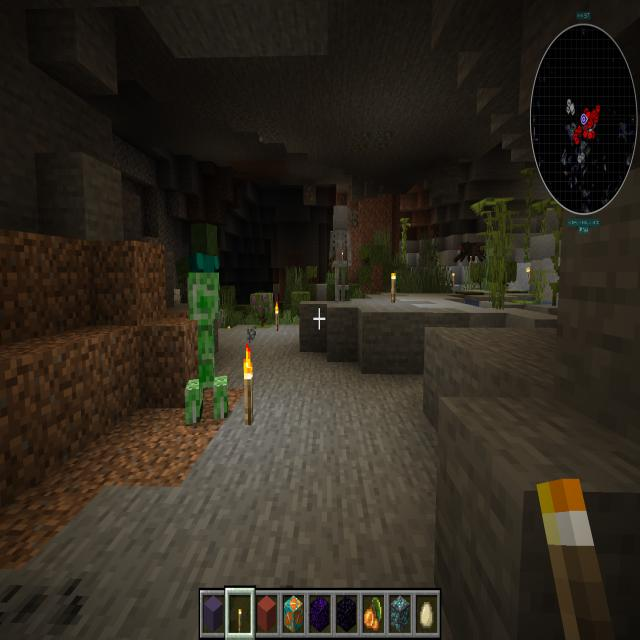Creeper: (176, 266, 234, 440)
Skeleton: (324, 195, 356, 311)
Spider: (450, 238, 488, 273)
Zombie: (173, 218, 225, 282)
